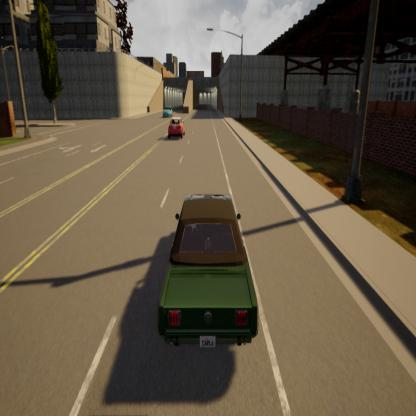Cars: (153, 189, 262, 360), (165, 116, 185, 142), (161, 104, 175, 119)
